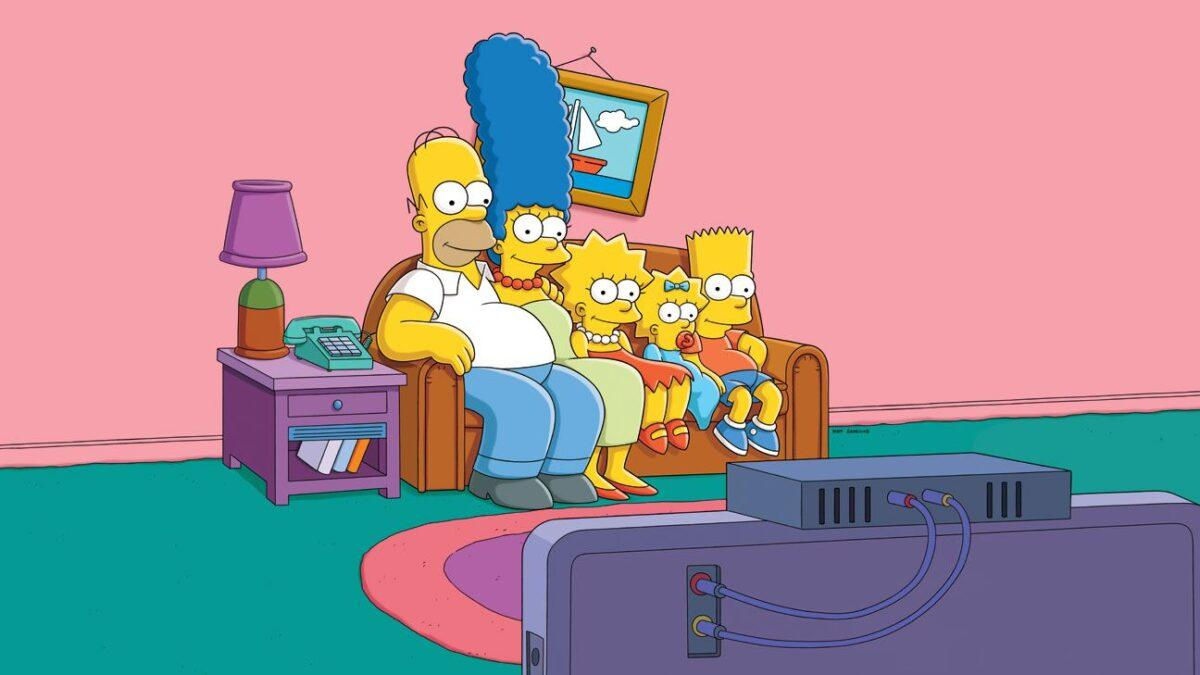Bart: (689, 203, 771, 458)
Homer: (383, 125, 519, 494)
Lisa: (558, 220, 659, 394)
Maggie: (632, 269, 709, 373)
Marge: (451, 20, 585, 492)
